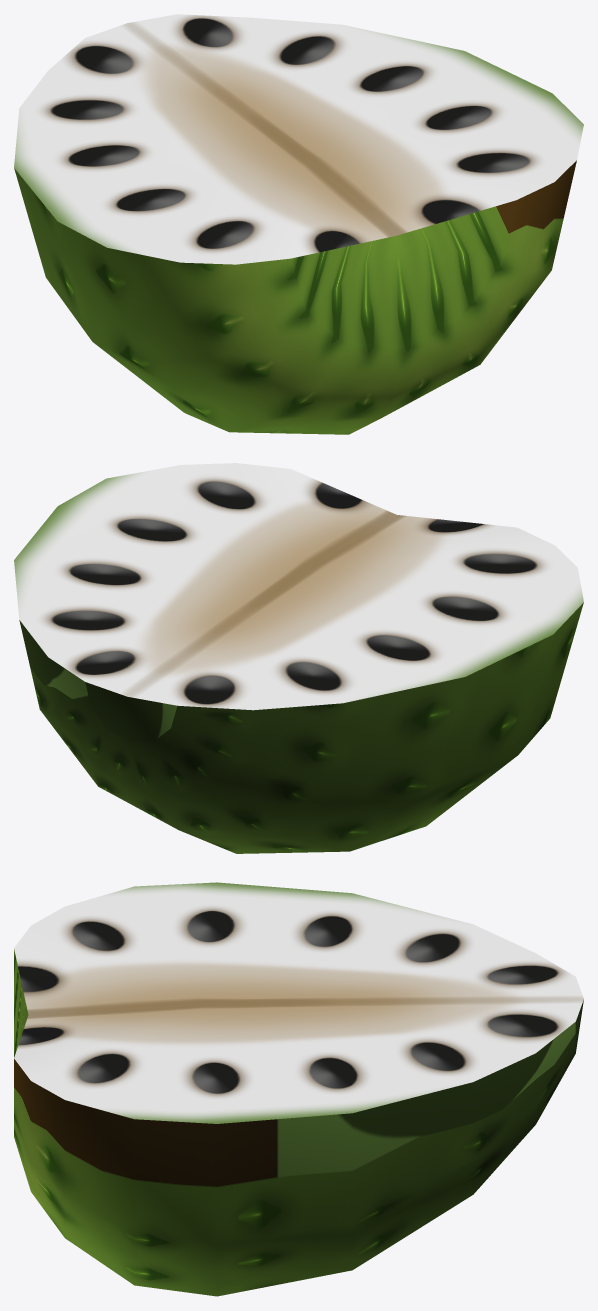
The model's file is Cherimoya_Half_02.fbx.
3 views of the same model, one above another, from view 1: azimuth 30°, elevation 25°; view 2: azimuth 150°, elevation 25°; view 3: azimuth 270°, elevation 25° (orthographic). The views are drawn at different scales.
Visible parts, largest first — view 1: Cherimoya_Half_02; view 2: Cherimoya_Half_02; view 3: Cherimoya_Half_02.
Part boxes in pixels (left/top/right/bottom): Cherimoya_Half_02: left=14, top=14, right=583, bottom=434; Cherimoya_Half_02: left=14, top=463, right=583, bottom=853; Cherimoya_Half_02: left=14, top=882, right=583, bottom=1296.
Bounding box in the file's own units: 44.13 × 22.47 × 42.67.
